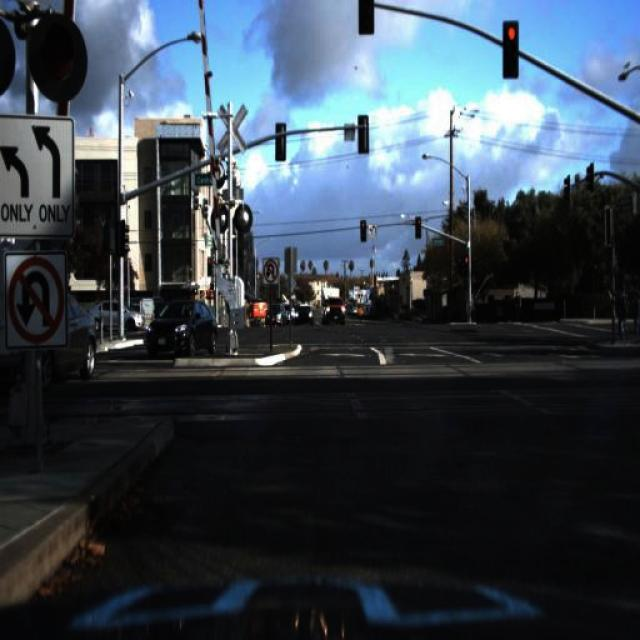semaforo: (502, 21, 518, 78)
